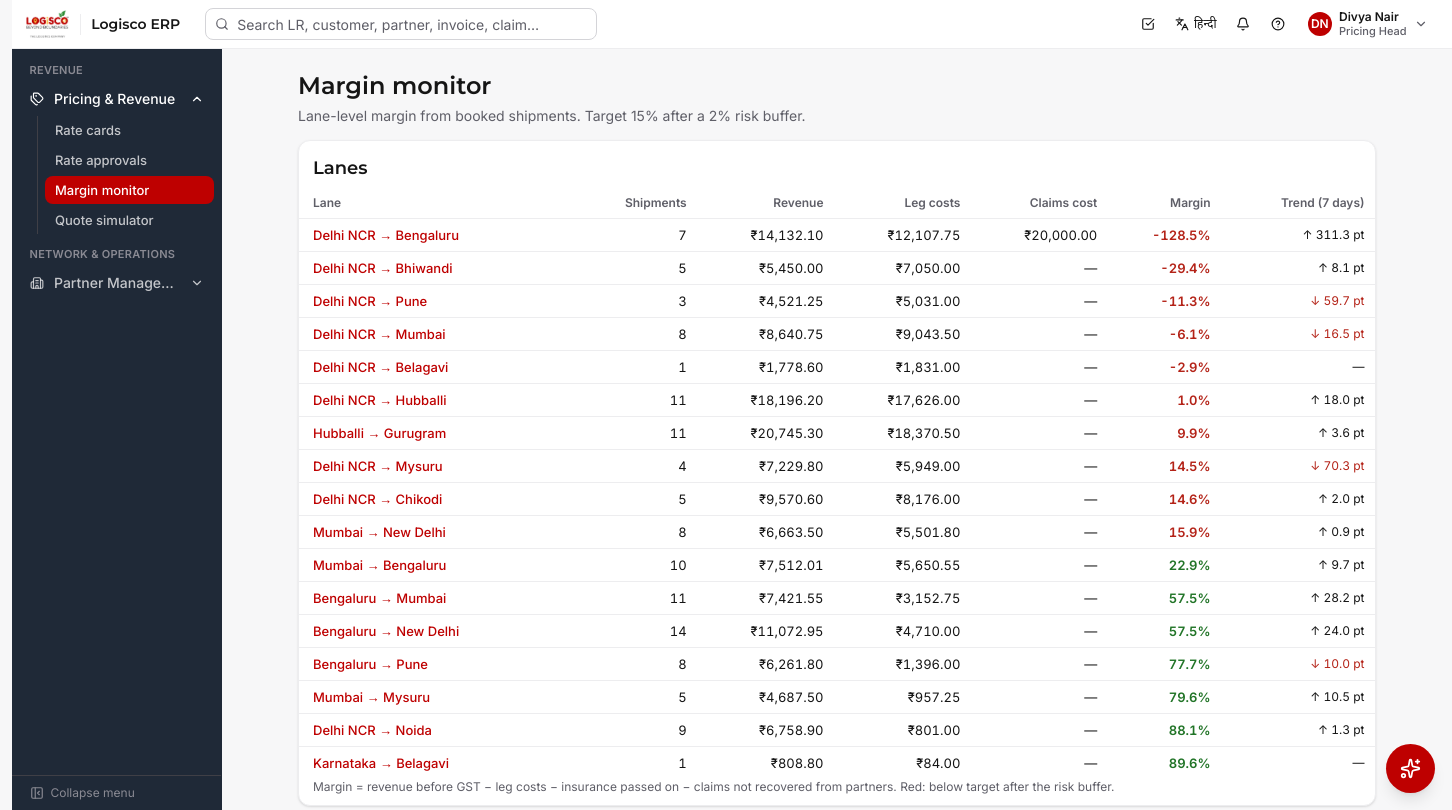
Test: Pricing: ERP-24, ERP-25 › ERP-24: lanes with margin, alerts, quote checks; open a lane
expect the row "Delhi NCR → Hubballi" is shown: met, box [299,383,1375,416]
Click the button "Delhi NCR → Hubballi". click: (380, 400)
box: [313,390,446,408]
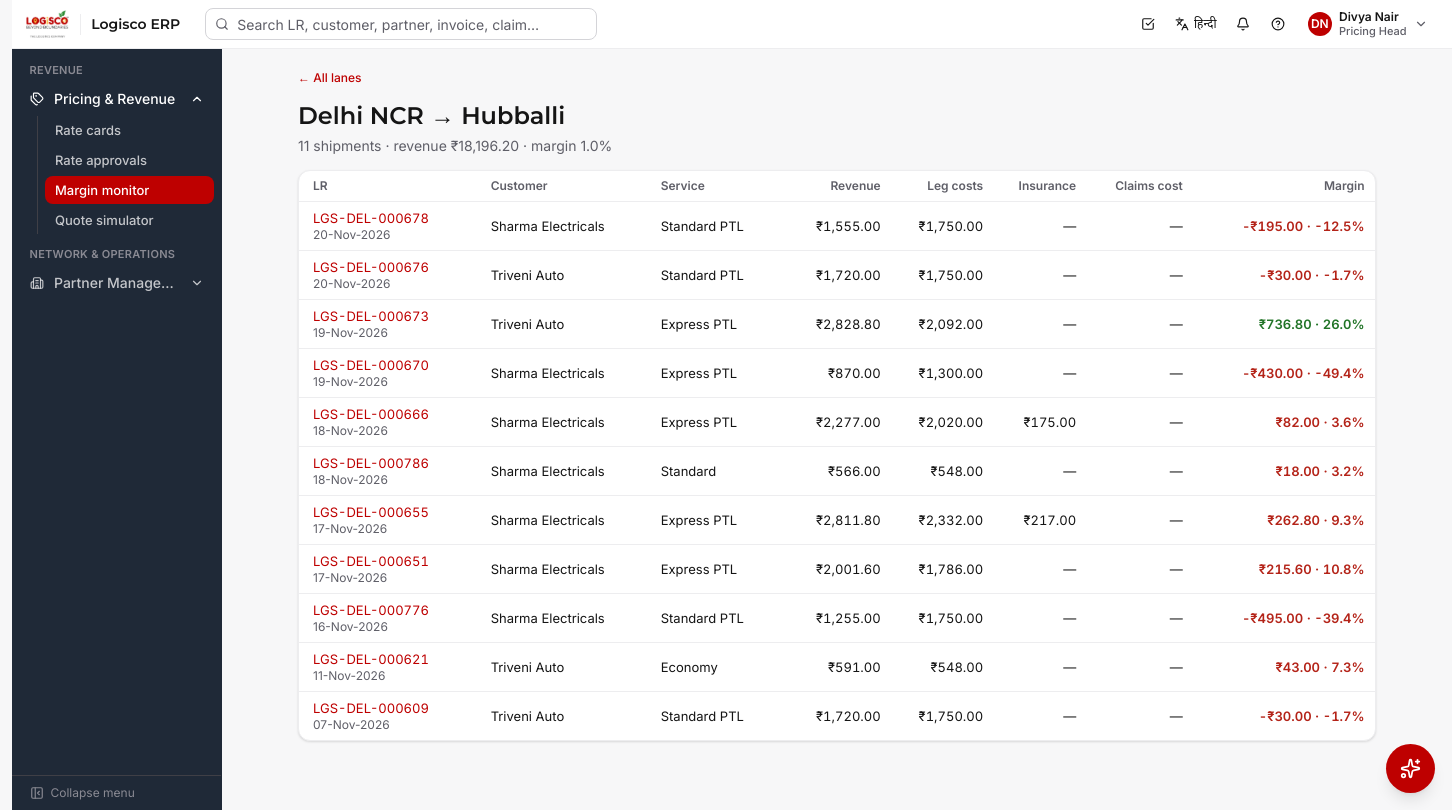
expect the heading "Delhi NCR → Hubballi" is shown: met, box [298,101,565,130]
